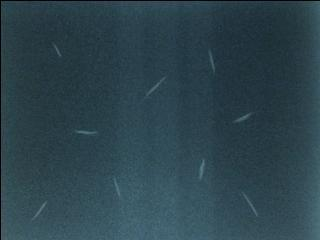scratch: (233, 185, 268, 224), (198, 43, 224, 80), (138, 73, 171, 101), (106, 174, 131, 204), (229, 108, 259, 129), (26, 200, 50, 223), (70, 125, 103, 141), (194, 154, 210, 186), (46, 41, 70, 62)
